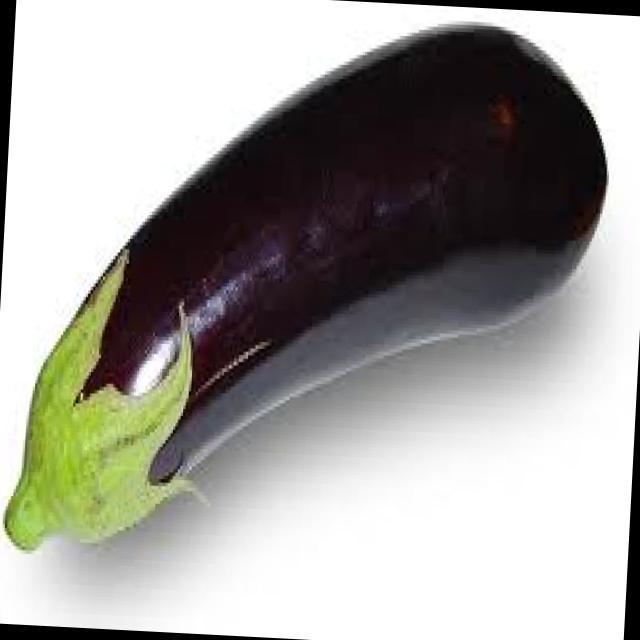Aubergine: (0, 0, 631, 598)
